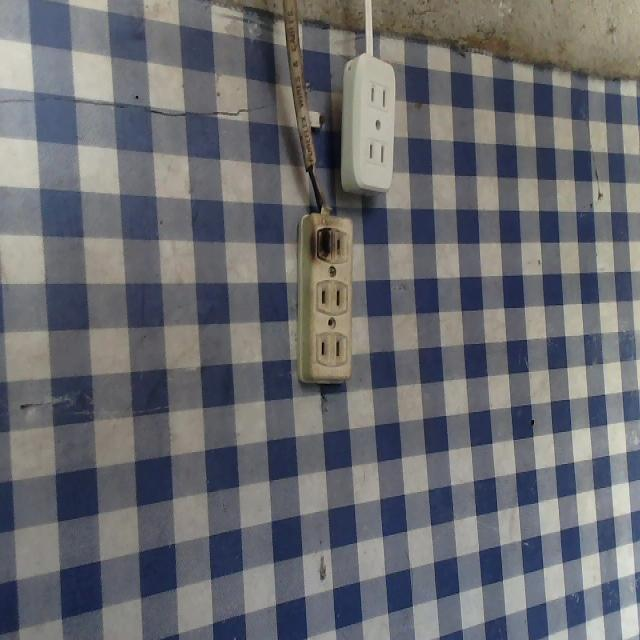-: (305, 215, 337, 272)
